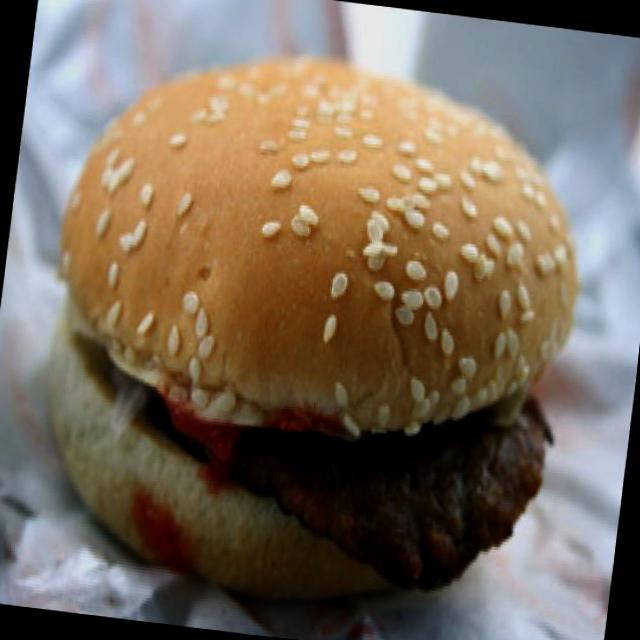Hamburger: (12, 11, 598, 620)
